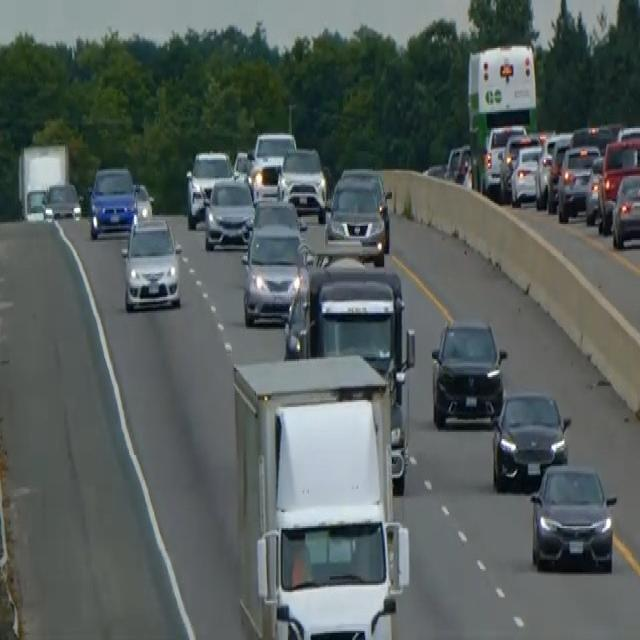bus: (465, 41, 538, 194)
car: (529, 460, 617, 572), (430, 314, 507, 428), (491, 387, 570, 489), (240, 221, 308, 327), (325, 166, 391, 262), (120, 213, 182, 313), (596, 135, 639, 231), (184, 148, 232, 228), (203, 174, 254, 249), (279, 144, 327, 220), (88, 164, 137, 238), (556, 142, 599, 222), (482, 122, 526, 194), (535, 132, 572, 210), (610, 169, 639, 249), (509, 140, 542, 207), (251, 196, 300, 231), (248, 158, 285, 203), (252, 130, 296, 167), (584, 153, 605, 224), (42, 182, 81, 220), (445, 142, 471, 183), (131, 180, 154, 220), (232, 148, 253, 178)
lorry: (230, 352, 410, 638), (283, 262, 416, 492)
truck: (25, 187, 47, 220)
